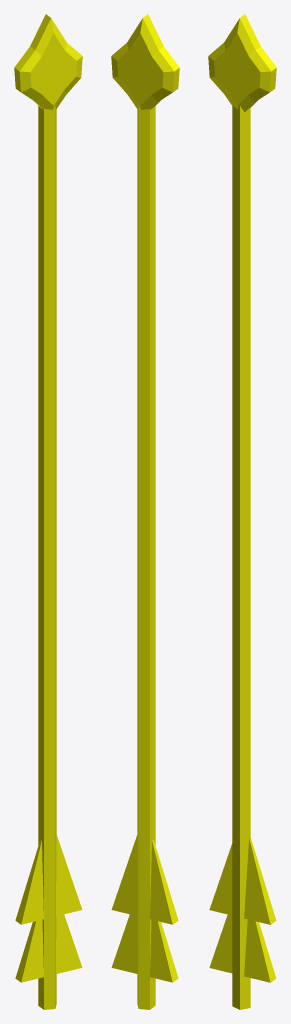
The model's file is _arrow_c_21.glb.
3 renders of one model, left to right at view 1: azimuth 30°, elevation 25°; view 2: azimuth 150°, elevation 25°; view 3: azimuth 330°, elevation 25°, orthographic.
Visible parts, largest first — view 1: arrow_c_21; view 2: arrow_c_21; view 3: arrow_c_21.
Boxes of the visible parts, left/top/right/bottom form: arrow_c_21: left=14, top=14, right=82, bottom=1009; arrow_c_21: left=111, top=14, right=179, bottom=1009; arrow_c_21: left=208, top=14, right=276, bottom=1009.
Bounding box in the file's own units: 0.0391 × 0.586 × 0.011.
Materials: 1 (1 with a texture image).
